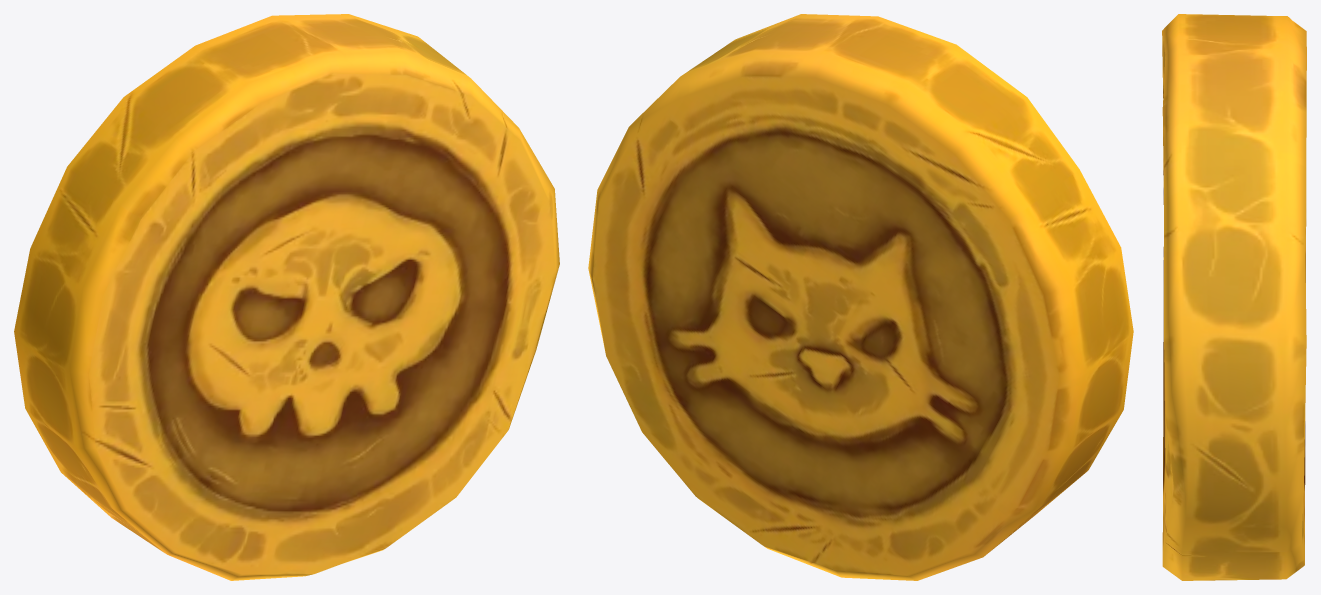
The model's file is coin.glb.
3 views of the same model, side by side, from view 1: azimuth 30°, elevation 25°; view 2: azimuth 150°, elevation 25°; view 3: azimuth 270°, elevation 25° (orthographic).
Parts seen in each view (by area): view 1: Cylinder.015_Gold_0; view 2: Cylinder.015_Gold_0; view 3: Cylinder.015_Gold_0.
Boxes of the visible parts, x1,y1,x2,y2 form: Cylinder.015_Gold_0: (14,14,559,580); Cylinder.015_Gold_0: (588,14,1133,580); Cylinder.015_Gold_0: (1162,14,1306,580).
Bounding box in the file's own units: 0.321 × 0.3211 × 0.0813.
1 material, 1 textured.
